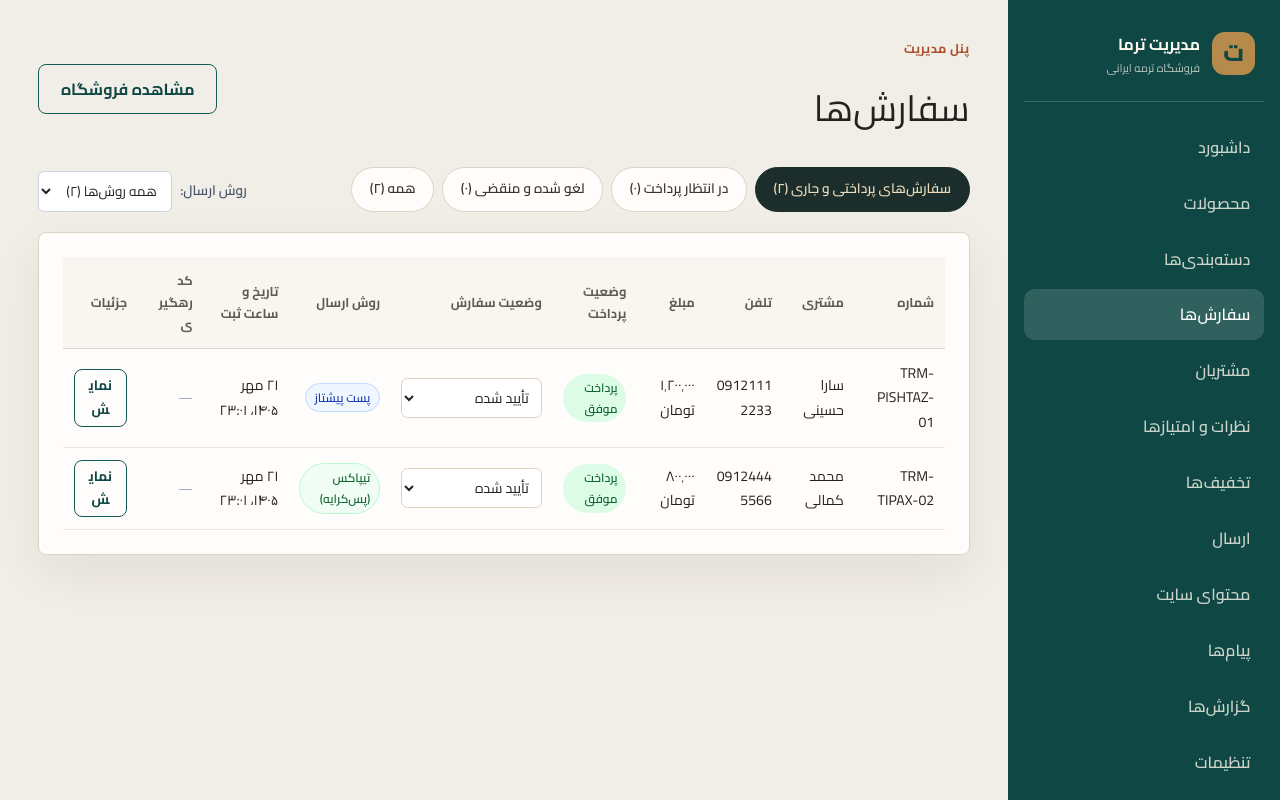
Test: AdminOperationsPages › AdminOrdersPage displays shipping method badges and allows filtering by shipping method
Expected: the text "TRM-PISHTAZ-01" is shown, [854, 348, 945, 447]
Expected: the text "TRM-TIPAX-02" is shown, [854, 447, 945, 530]
Select "تیپاکس (۱)" in the dropdown named "فیلتر روش ارسال": (105, 191) [38, 171, 172, 212]
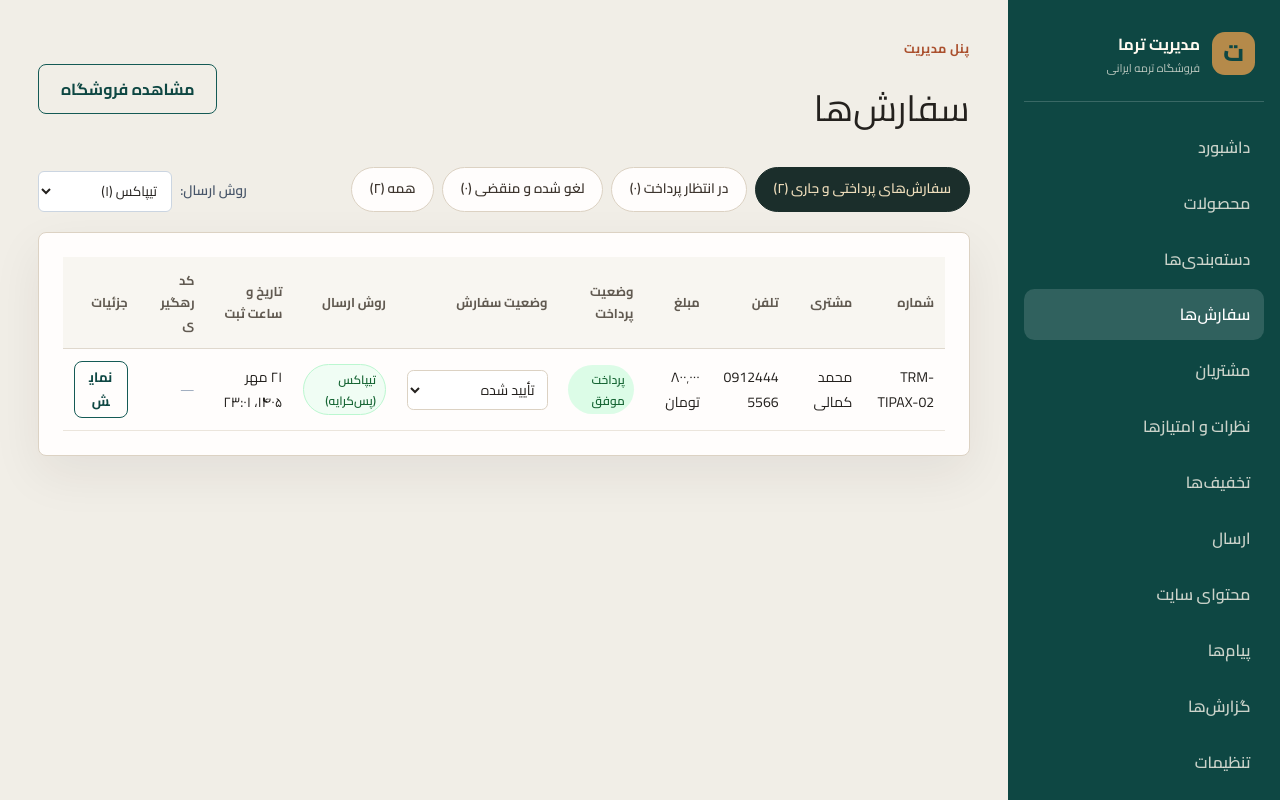
Expected: the text "TRM-TIPAX-02" is shown, [863, 348, 945, 431]
Now the text "TRM-PISHTAZ-01" is gone
Select "پست پیشتاز (۱)" in the dropdown named "فیلتر روش ارسال": (105, 191) [38, 171, 172, 212]
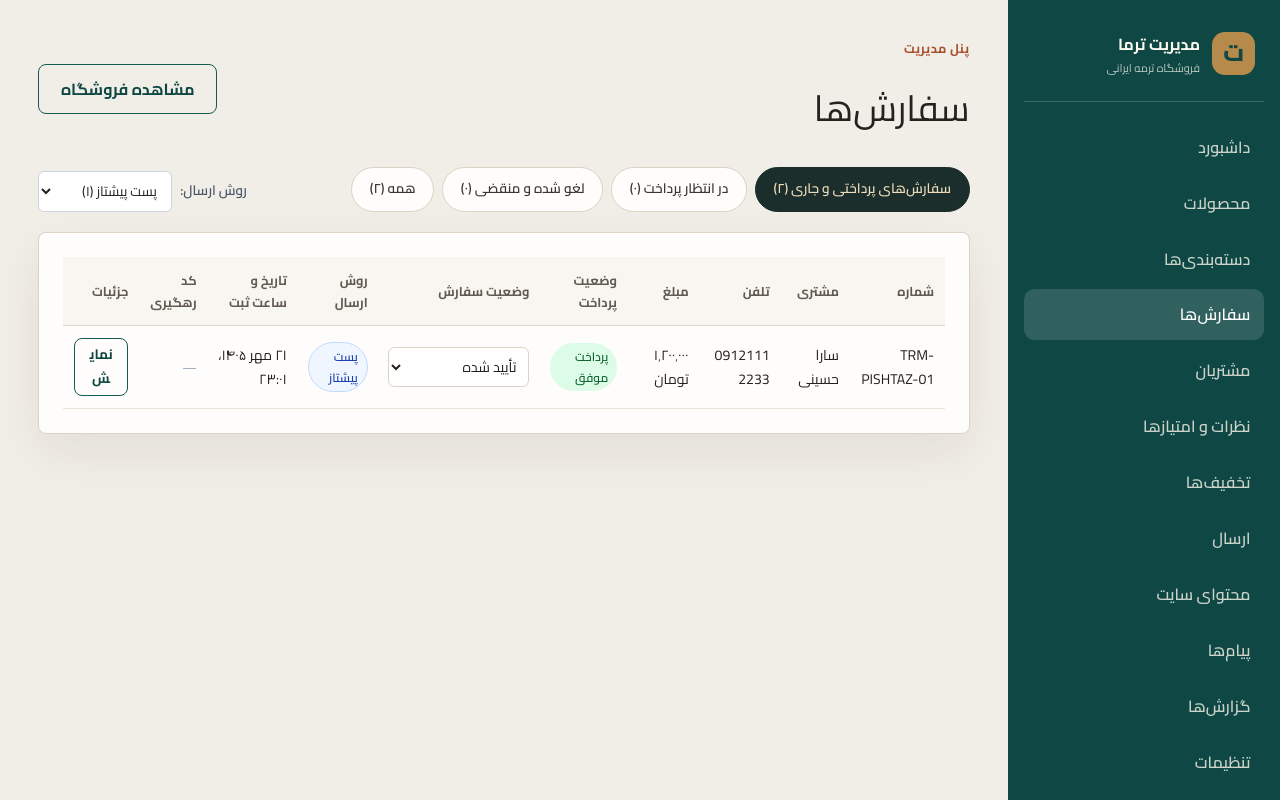
Now the text "TRM-PISHTAZ-01" is shown, box [849, 326, 945, 408]
Now the text "TRM-TIPAX-02" is gone
